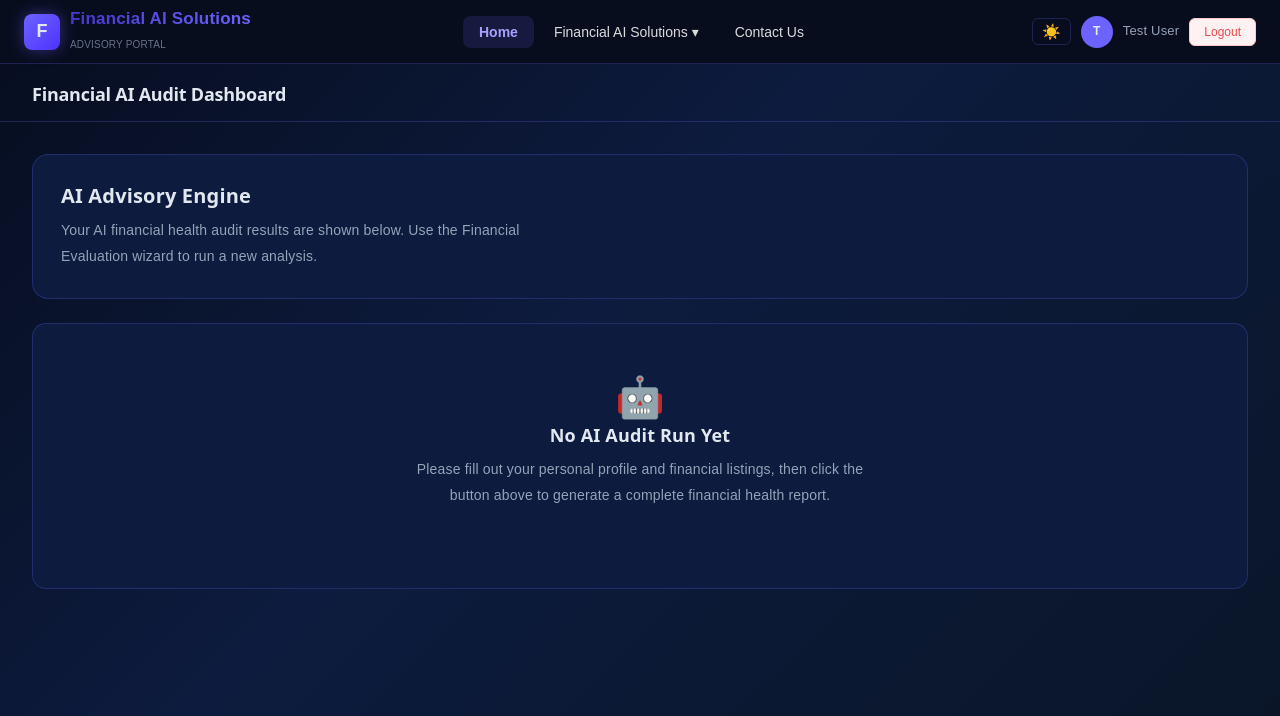
Test case: Home – Evaluate Financials wizard › Next from step 2 goes to step 3 (AI Analysis)
The image size is (1280, 716).
Hover over the element "Financial AI Solutions ▾" at (626, 32), box [538,16,715,48]
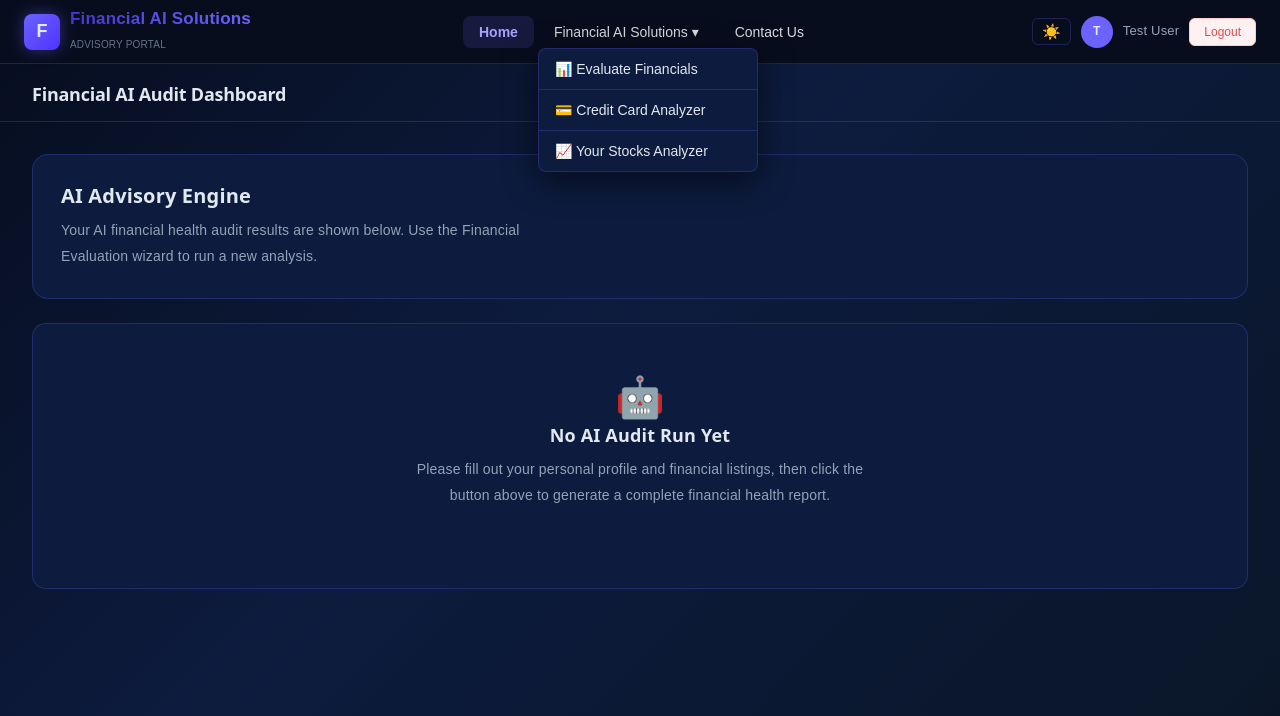
Click the button "📊 Evaluate Financials" at (648, 69), box [539,48,757,90]
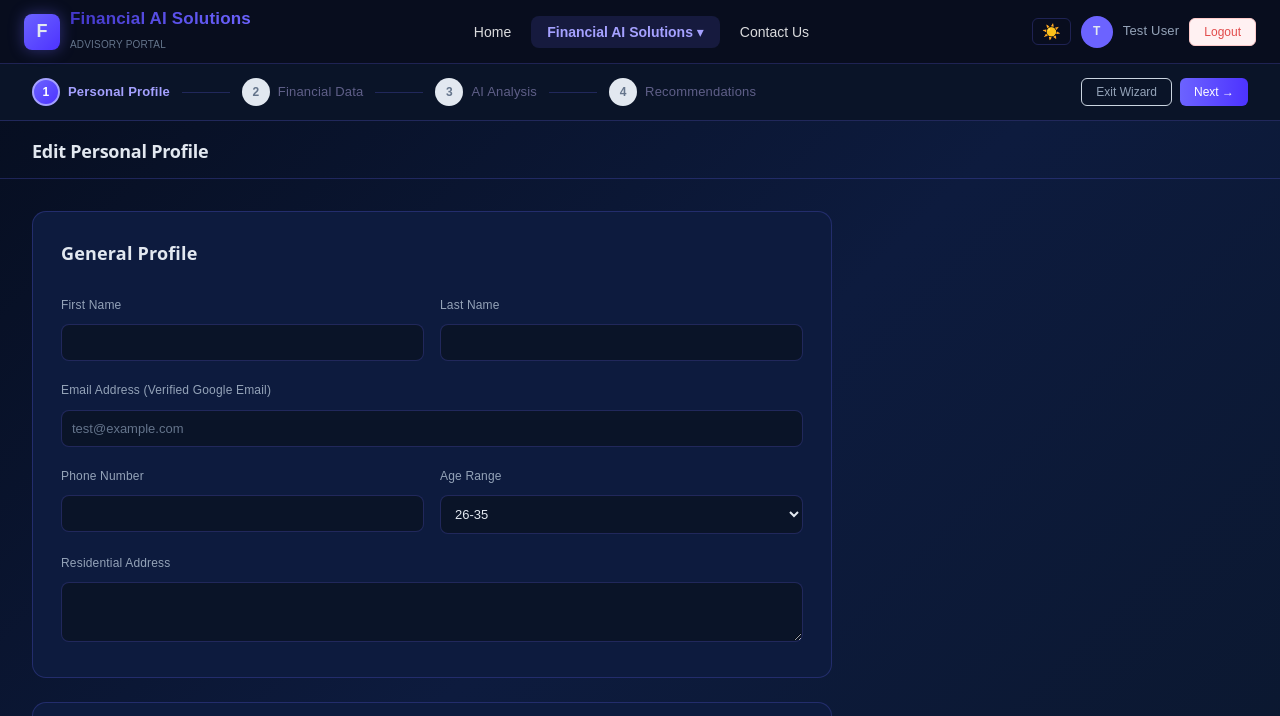
Click the button "Next →" at (1214, 92), box [1180,78,1248,106]
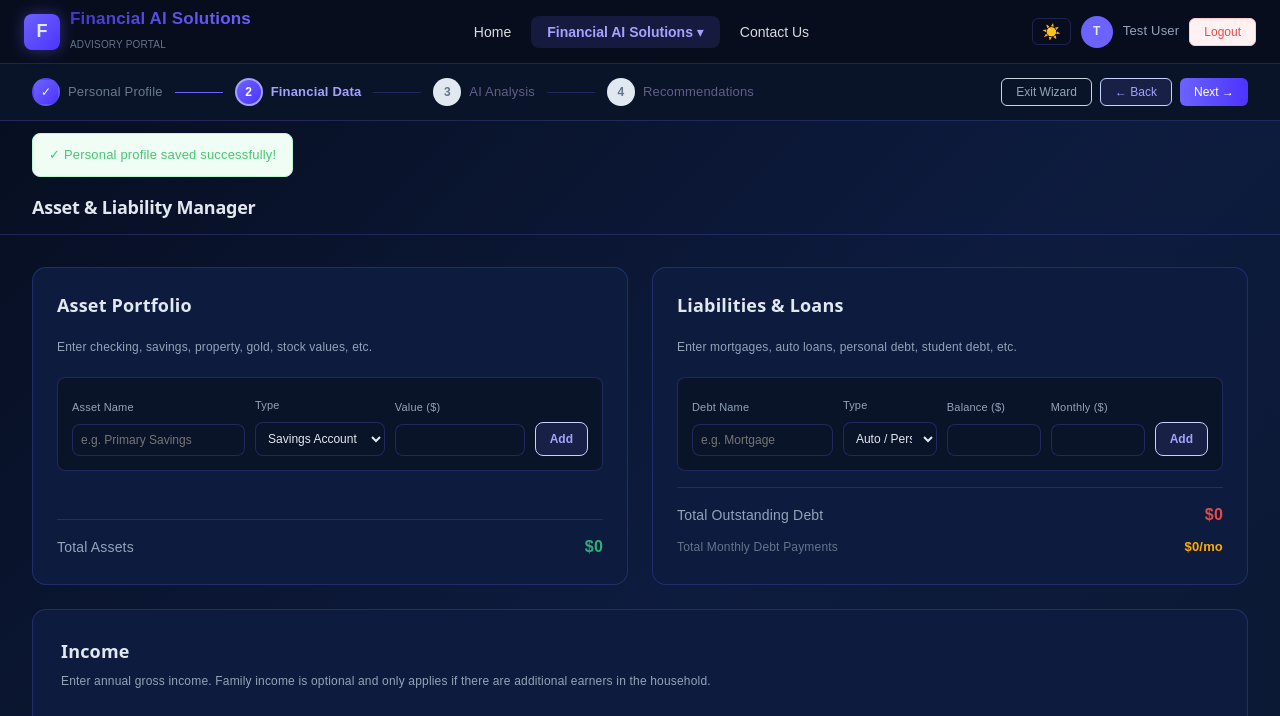
Check: the heading "Asset & Liability Manager" is shown, box [32,195,256,219]
Click the button "Next →" at (1214, 92), box [1180,78,1248,106]
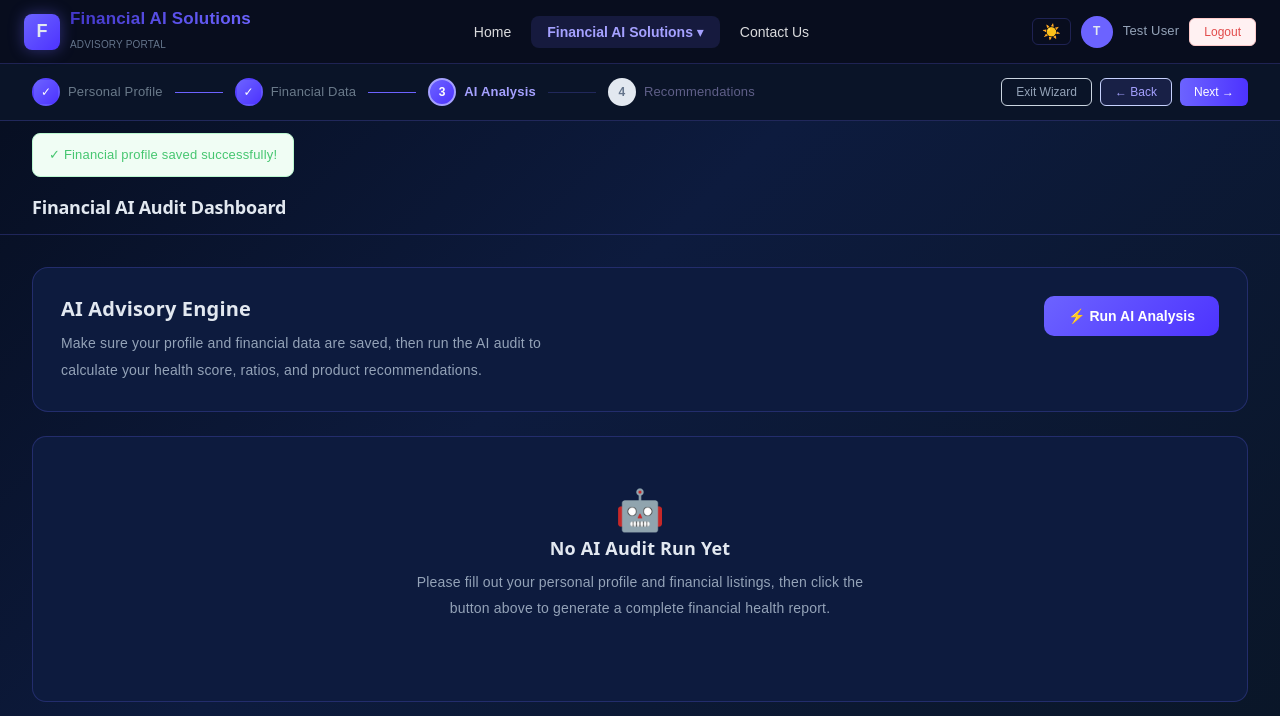
Check: the heading "Financial AI Audit Dashboard" is shown, box [32,195,286,219]
